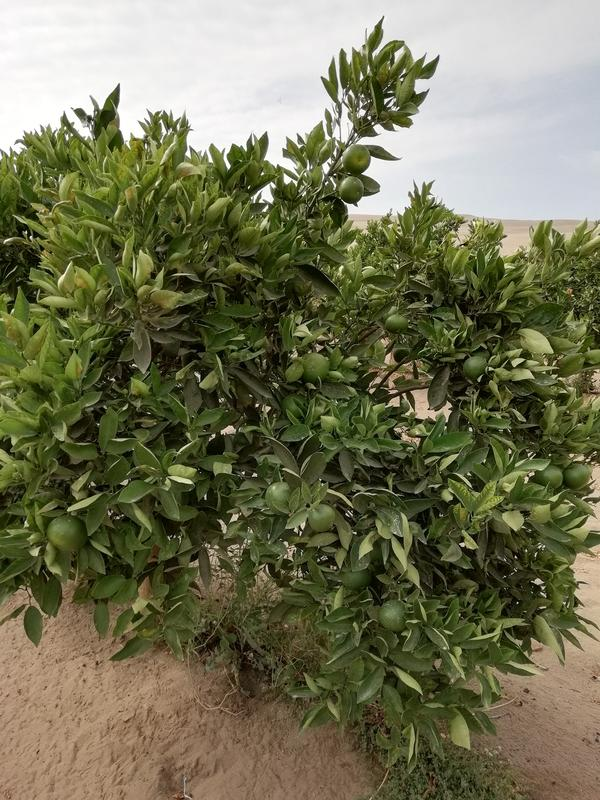mandarina verde: (47, 516, 88, 551), (264, 480, 296, 509), (379, 598, 406, 632), (301, 352, 330, 383), (343, 144, 371, 174), (309, 503, 336, 534), (564, 462, 592, 488), (338, 175, 363, 203), (463, 355, 487, 377), (383, 314, 409, 334), (539, 466, 562, 488)
